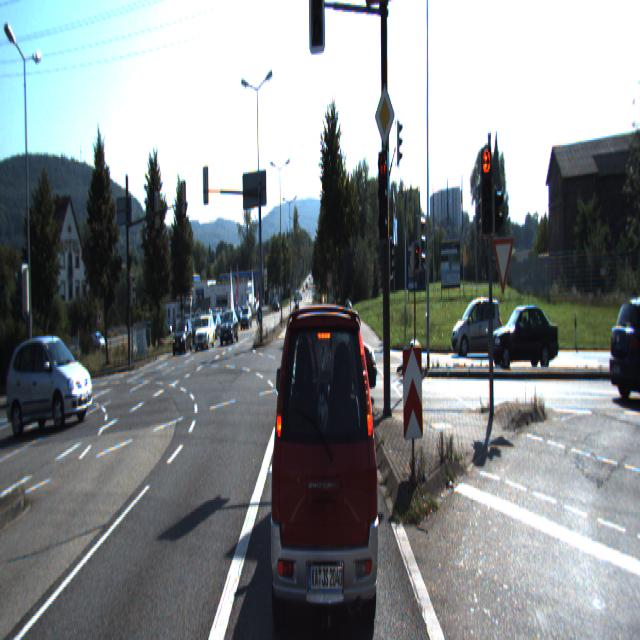Car: (267, 278, 381, 637), (5, 334, 94, 432), (308, 306, 378, 404), (488, 298, 560, 373), (606, 299, 639, 408), (451, 295, 503, 354), (172, 321, 193, 355), (195, 316, 215, 350), (219, 310, 239, 344)
